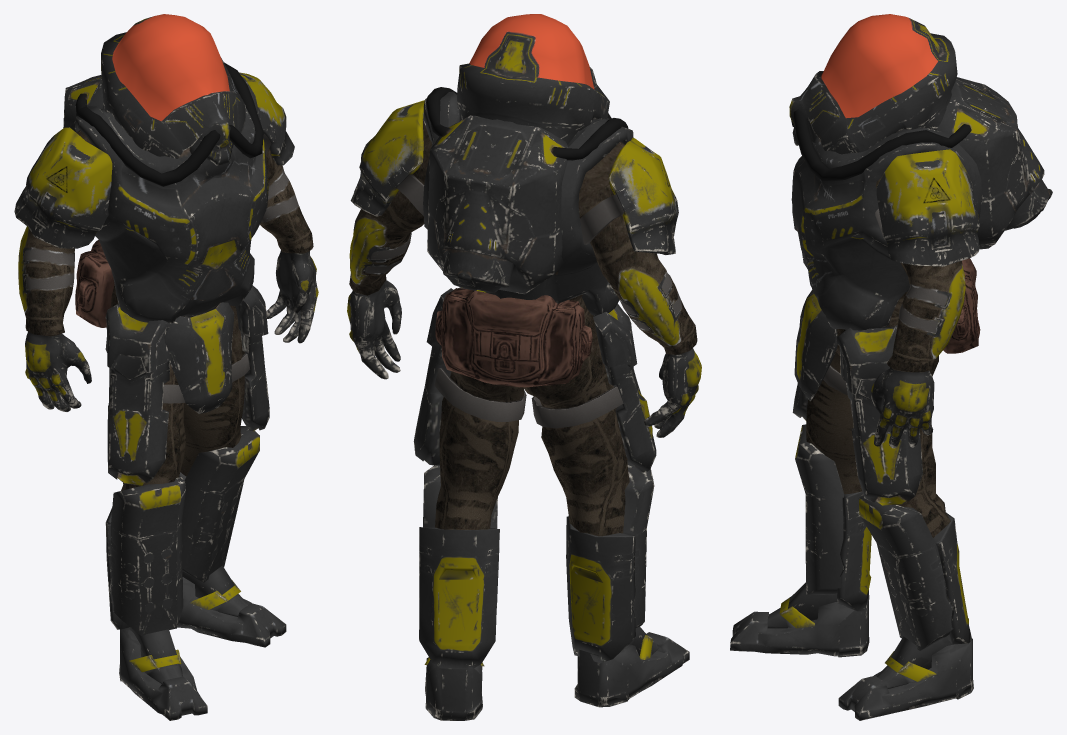
The model's file is hazard_unit_free_model.glb.
The picture shows the model from 3 angles, left to right: view 1: azimuth 30°, elevation 25°; view 2: azimuth 150°, elevation 25°; view 3: azimuth 270°, elevation 25°; orthographic projection. The views are drawn at different scales.
Size of the model in its own units: 90.87 by 180 by 80.8.
Materials: 1 (1 with a texture image).
